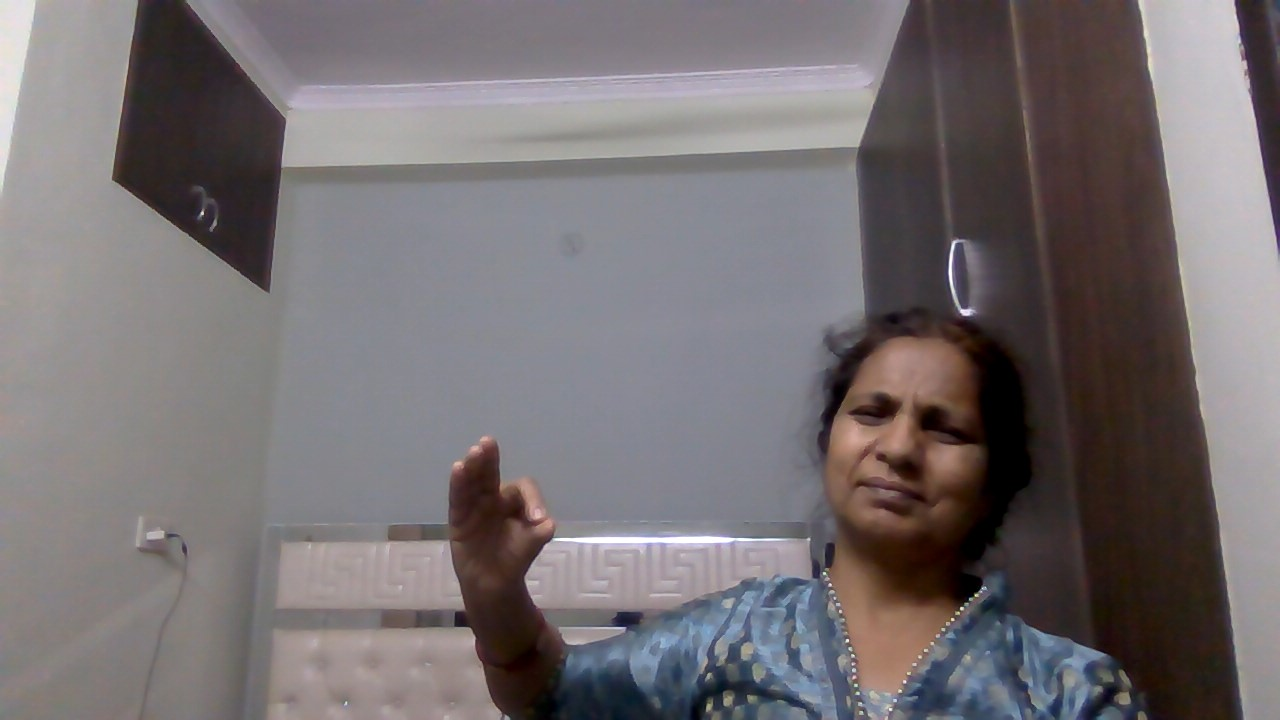Copy: (431, 430, 566, 626)
